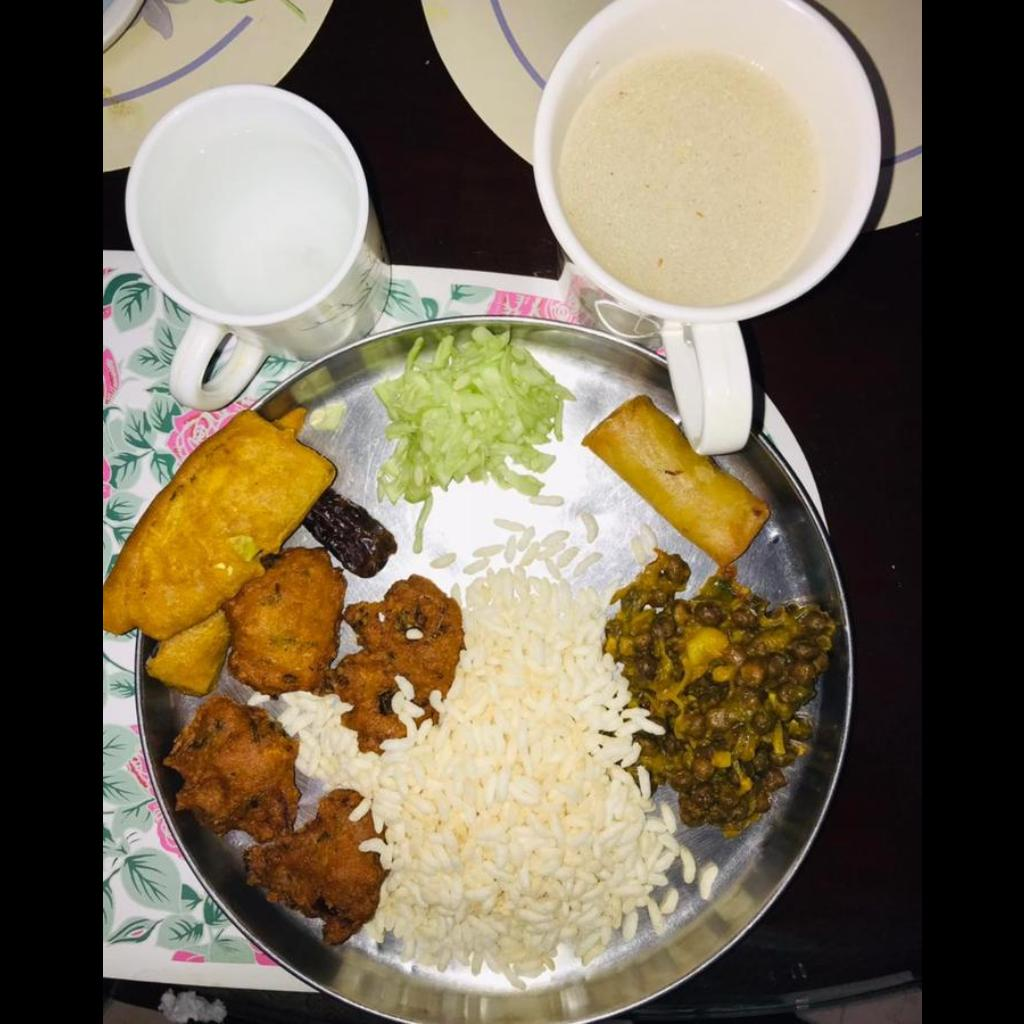beguni: (102, 411, 332, 694)
chola: (620, 554, 833, 813)
cucumber: (374, 336, 565, 493)
dates: (308, 501, 396, 575)
juice: (551, 47, 832, 306)
peyaju: (172, 697, 377, 934)
piyaju: (223, 548, 463, 750)
puffed-rice: (282, 573, 678, 990)
roll: (583, 396, 768, 565)
